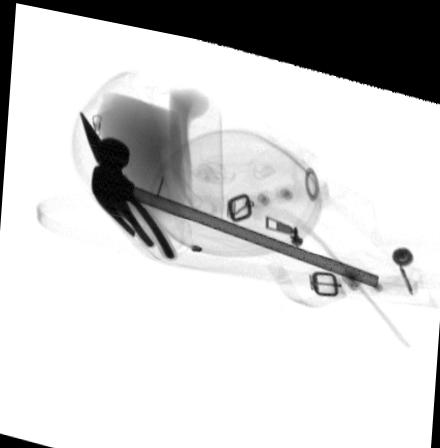Hammer: (92, 130, 379, 270)
Pliers: (79, 110, 178, 254)
